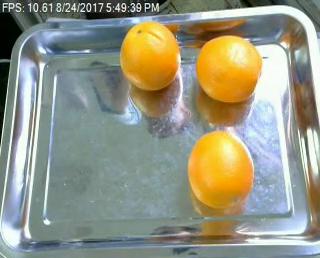Orange: (187, 131, 254, 209), (195, 35, 262, 103), (118, 21, 179, 89)
